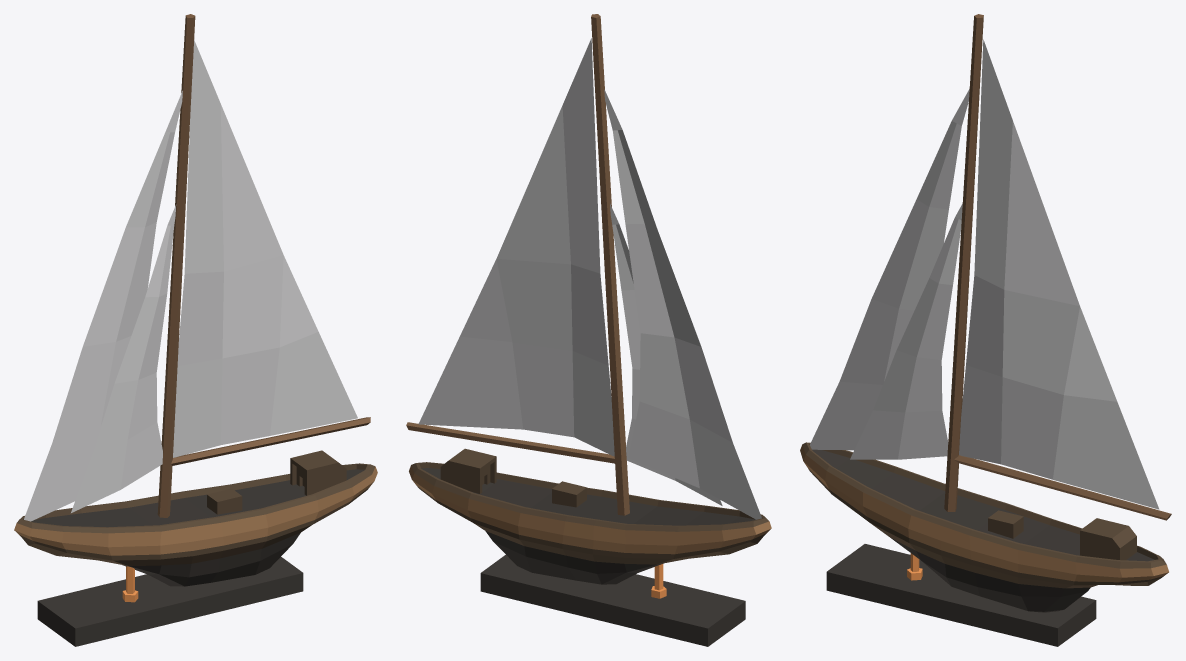
The model's file is SM_Ship_01.glb.
3 renders of one model, left to right at view 1: azimuth 30°, elevation 25°; view 2: azimuth 150°, elevation 25°; view 3: azimuth 330°, elevation 25°, orthographic.
Parts seen in each view (by area): view 1: SM_Ship_01; view 2: SM_Ship_01; view 3: SM_Ship_01.
Boxes of the visible parts, x1=… form: SM_Ship_01: x1=14, y1=14, x2=377, y2=646; SM_Ship_01: x1=406, y1=14, x2=771, y2=646; SM_Ship_01: x1=800, y1=14, x2=1171, y2=646.
Bounding box in the file's own units: 0.4114 × 0.6325 × 0.0807.
1 material, 1 textured.
